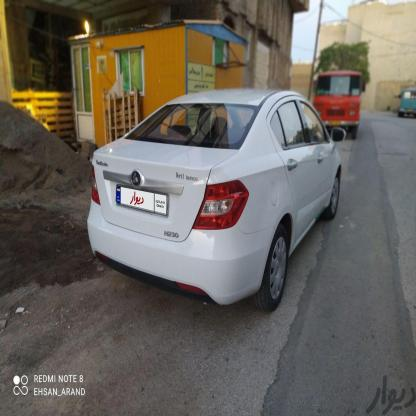Bus: (309, 70, 367, 138), (395, 80, 416, 121)
Car: (94, 95, 338, 310)
